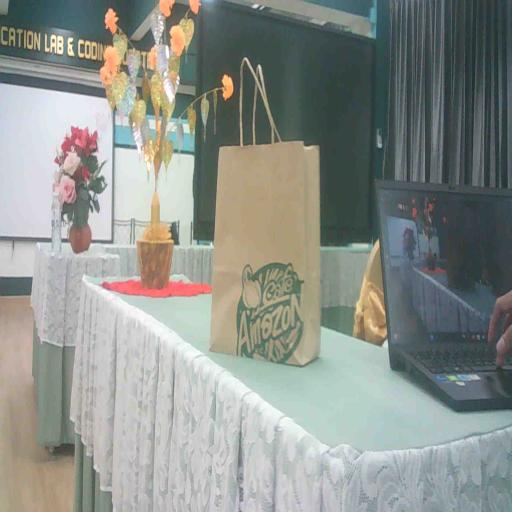bag: (198, 130, 336, 385)
